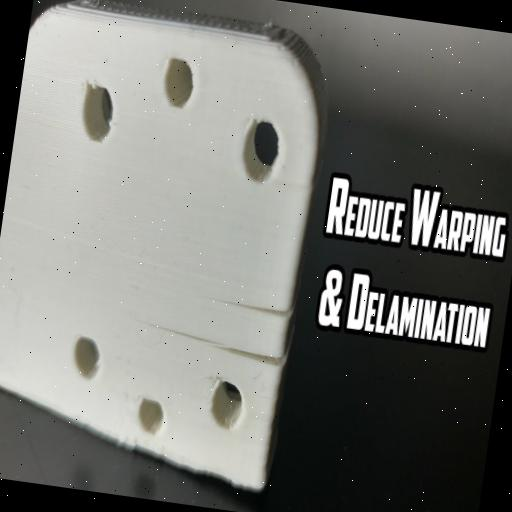cracks: (168, 276, 304, 384)
